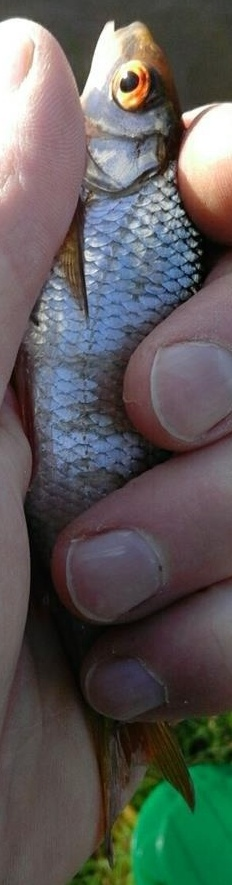Rutilus rutilus: (20, 20, 212, 865)
